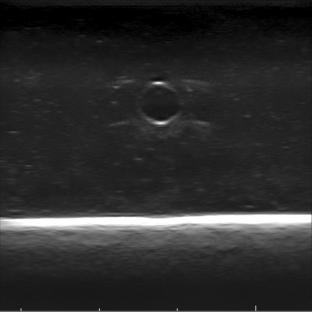vessel: (135, 81, 184, 126)
